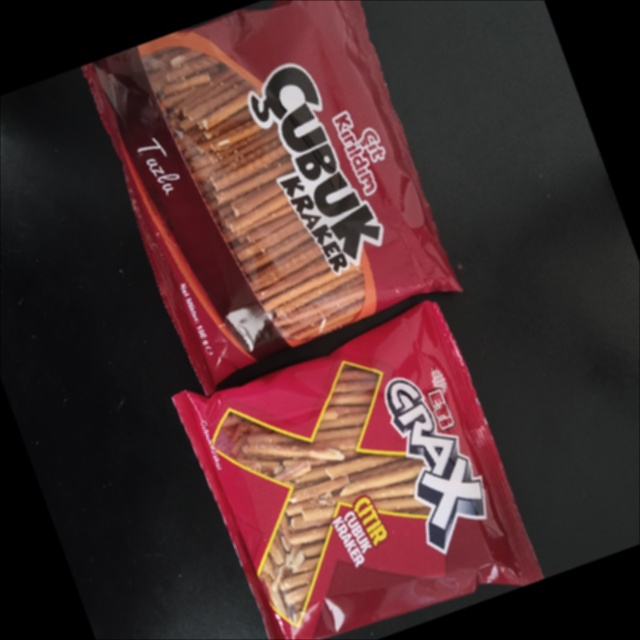citkirildim_cubuk_kraker: (82, 0, 459, 392)
eti_crax_cubuk_kraker: (172, 304, 540, 638)
